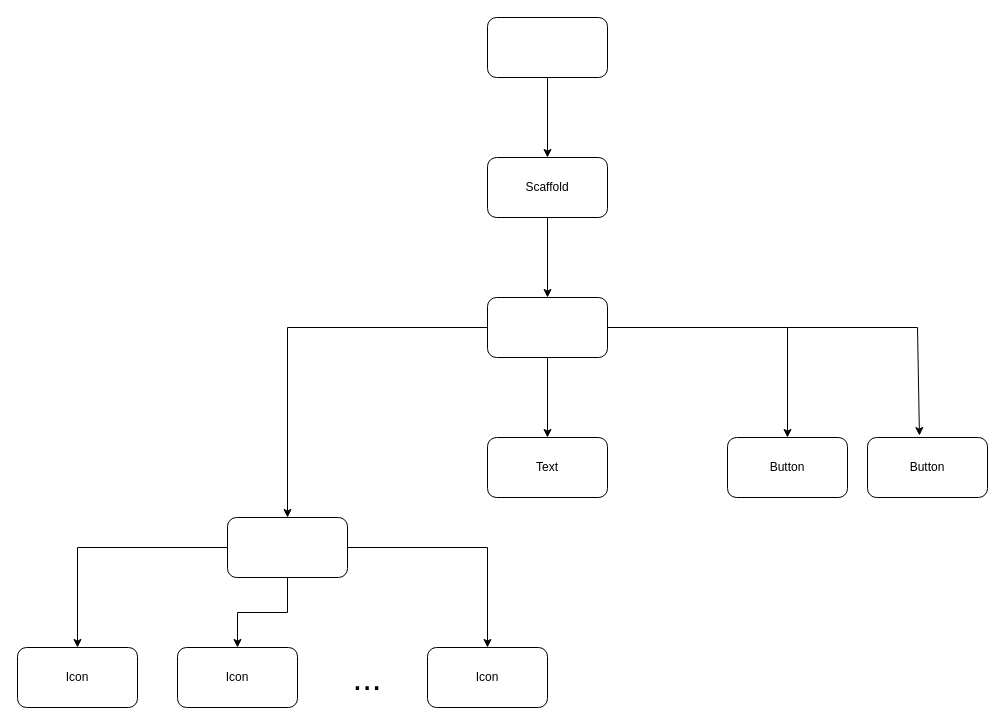
This 1005x725 diagram has some shape labels left out. The shapes that lost their labels are listed below. From the top down, each one's centre as x and y in pixels, then its label:
At (547,47): "MaterialApp".
At (547,327): "Column".
At (287,547): "Row".
